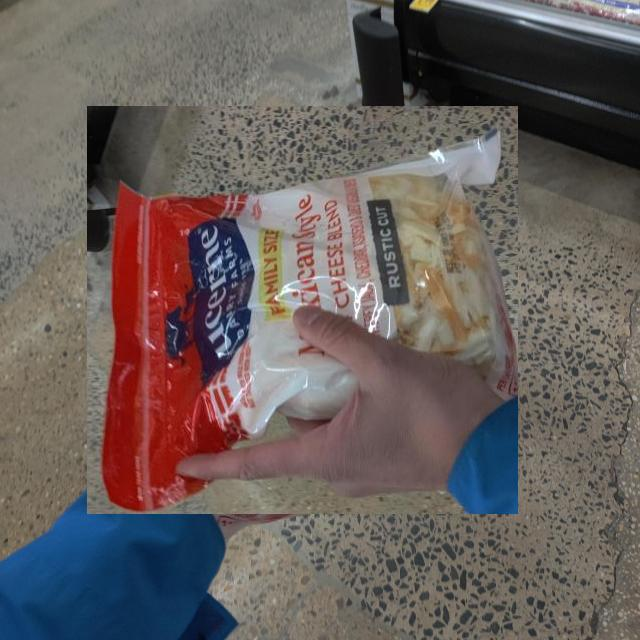Cheese: (88, 106, 518, 514)
